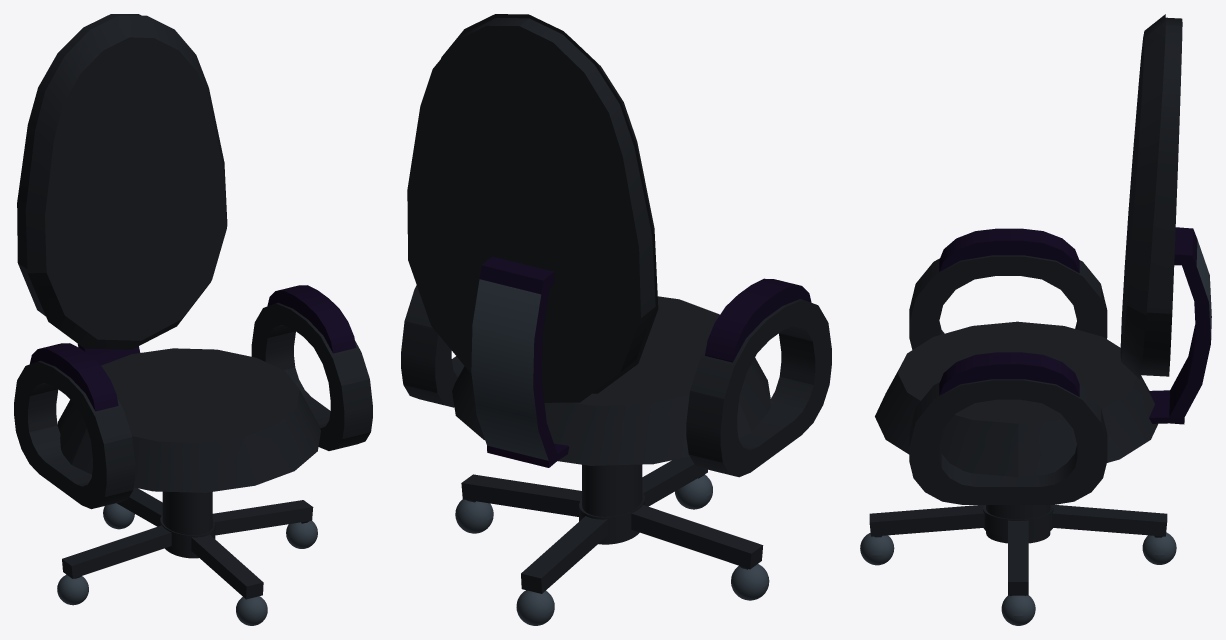
Rendered from chair.gltf.
The picture shows the model from 3 angles, left to right: view 1: azimuth 30°, elevation 25°; view 2: azimuth 150°, elevation 25°; view 3: azimuth 270°, elevation 25°; orthographic projection. The views are drawn at different scales.
Parts seen in each view (by area): view 1: chair; view 2: chair; view 3: chair.
Boxes of the visible parts, x1,y1,x2,y2 form: chair: (14, 14, 372, 625); chair: (401, 14, 831, 625); chair: (860, 14, 1211, 625).
Bounding box in the file's own units: 4.24 × 7.76 × 4.55.
Materials: 1 (1 with a texture image).
